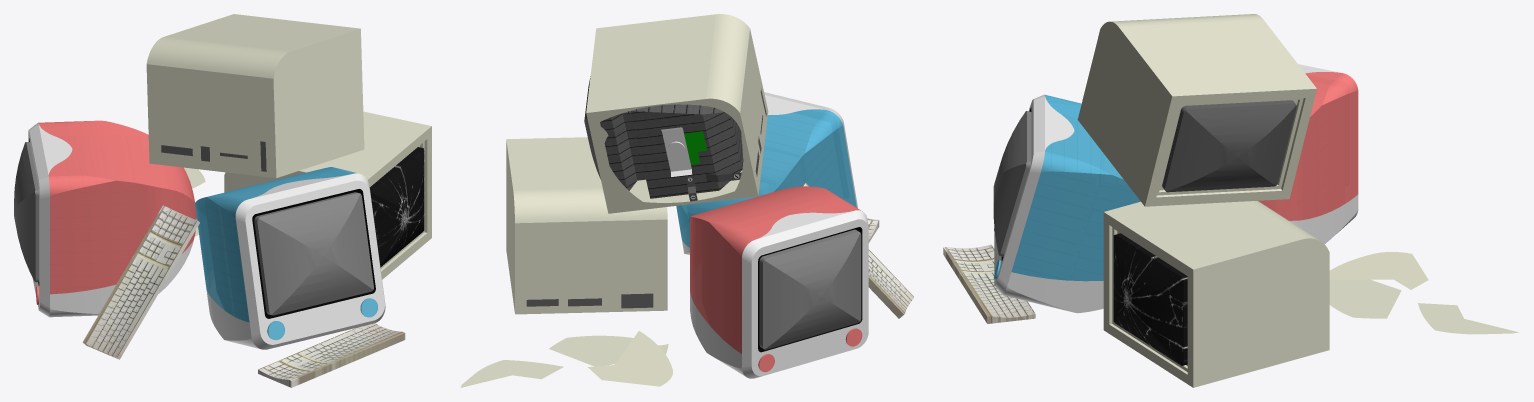
The model's file is computer.gltf.
3 renders of one model, left to right at view 1: azimuth 30°, elevation 25°; view 2: azimuth 150°, elevation 25°; view 3: azimuth 270°, elevation 25°, orthographic. The views are drawn at different scales.
Parts seen in each view (by area): view 1: group_18, group_13, group_8, group_7.001, group_15, group_7, group_0, group_13.001, group_1, group_2, group_14, group_7.003 (+1 smaller); view 2: group_0, group_18, group_14, group_13, group_13.001, group_16, group_7, group_20, group_19, group_15, group_21, group_7.001 (+5 smaller); view 3: group_0, group_18, group_7, group_17, group_13, group_1, group_7.001, group_2, group_8, group_20, group_19, group_18.006 (+3 smaller).
Part boxes in pixels (x1,y1,x2,y2): group_18: (146,14,364,178); group_13: (38,120,196,294); group_8: (254,192,373,315); group_7.001: (206,173,385,349); group_15: (82,205,199,359); group_7: (195,167,356,322); group_0: (224,111,431,279); group_13.001: (28,123,193,317); group_1: (369,147,424,267); group_2: (258,323,405,387); group_14: (14,142,39,282); group_7.003: (252,189,375,318); group_0: (506,137,667,314); group_18: (586,14,768,213); group_14: (759,229,861,349); group_13: (690,186,860,353); group_13.001: (690,210,868,378); group_16: (600,104,743,198); group_7: (676,109,856,247); group_20: (588,331,672,386); group_19: (549,335,668,366); group_15: (802,183,914,318); group_21: (460,360,563,387); group_7.001: (681,92,857,254); group_0: (1103,201,1329,387); group_18: (1077,14,1316,206); group_7: (1011,95,1140,281); group_17: (1162,100,1296,192); group_13: (1258,72,1358,220); group_1: (1113,233,1187,365); group_7.001: (994,94,1103,313); group_2: (943,244,1035,323); group_8: (993,111,1031,256); group_20: (1329,252,1428,289); group_19: (1329,279,1401,318); group_18.006: (1156,98,1305,197).
Bounding box in the file's own units: 1.73 × 1.11 × 2.15.
Materials: 11 (3 with a texture image).
